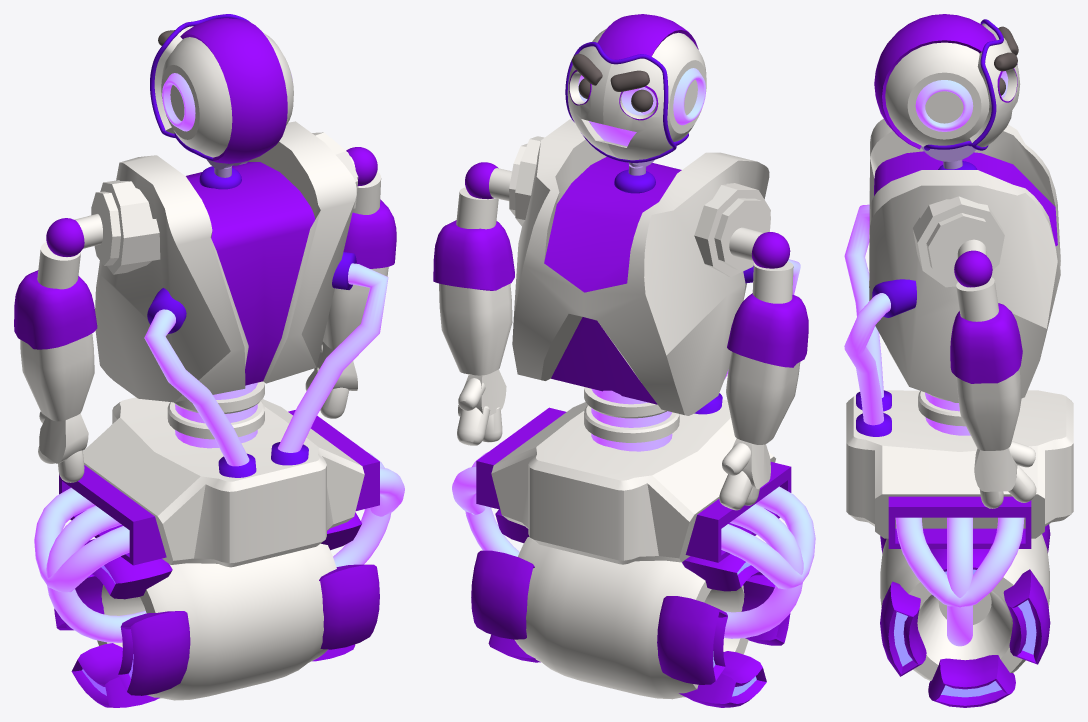
Rendered from PlasmaBoss.fbx.
The picture shows the model from 3 angles, left to right: view 1: azimuth 30°, elevation 25°; view 2: azimuth 150°, elevation 25°; view 3: azimuth 270°, elevation 25°; orthographic projection. The views are drawn at different scales.
Visible parts, largest first — view 1: Cube.005, Cube.002, Wheel, Wheel.003_Curve, Plane, Cube.007, Plane.001, HeadTop, Cube.008, MainHead, Cube.006, Cylinder (+13 smaller); view 2: Cube.005, Cube.002, Wheel, Wheel.003_Curve, Cube.007, Plane, Cube.008, Mask, Cylinder, Cube.006, MainHead, Cylinder.009 (+14 smaller); view 3: Cube.005, Cube.002, Wheel.003_Curve, Wheel, Plane, MainHead, Cube.007, Plane.001, Cylinder, Cube.008, Cube.006, HeadTop (+14 smaller).
Boxes of the visible parts, x1,y1,x2,y2 form: Cube.005: (95, 121, 356, 402); Cube.002: (83, 397, 364, 567); Wheel: (97, 543, 336, 700); Wheel.003_Curve: (54, 512, 379, 707); Plane: (34, 442, 404, 642); Cube.007: (20, 267, 388, 463); Plane.001: (144, 263, 388, 466); HeadTop: (180, 18, 287, 163); Cube.008: (14, 199, 396, 349); MainHead: (161, 32, 293, 157); Cube.006: (59, 410, 379, 565); Cylinder: (91, 132, 358, 274); Cube.005: (512, 119, 769, 415); Cube.002: (491, 399, 775, 564); Wheel: (514, 537, 748, 699); Wheel.003_Curve: (471, 509, 790, 707); Cube.007: (439, 283, 800, 489); Plane: (452, 442, 815, 638); Cube.008: (433, 220, 808, 367); Mask: (567, 46, 672, 160); Cylinder: (509, 136, 770, 277); Cube.006: (476, 407, 791, 562); MainHead: (578, 28, 706, 146); Cylinder.009: (456, 187, 793, 303); Cube.005: (869, 119, 1060, 402); Cube.002: (846, 390, 1073, 538); Wheel.003_Curve: (880, 524, 1050, 707); Wheel: (880, 534, 1049, 680); Plane: (895, 517, 1024, 646); MainHead: (885, 42, 1008, 146); Cube.007: (956, 369, 1021, 491); Plane.001: (844, 204, 890, 425); Cylinder: (912, 196, 1004, 287); Cube.008: (950, 303, 1022, 383); Cube.006: (888, 496, 1031, 548); HeadTop: (874, 14, 996, 149).
Size of the model in its own units: 274 by 477 by 154.
